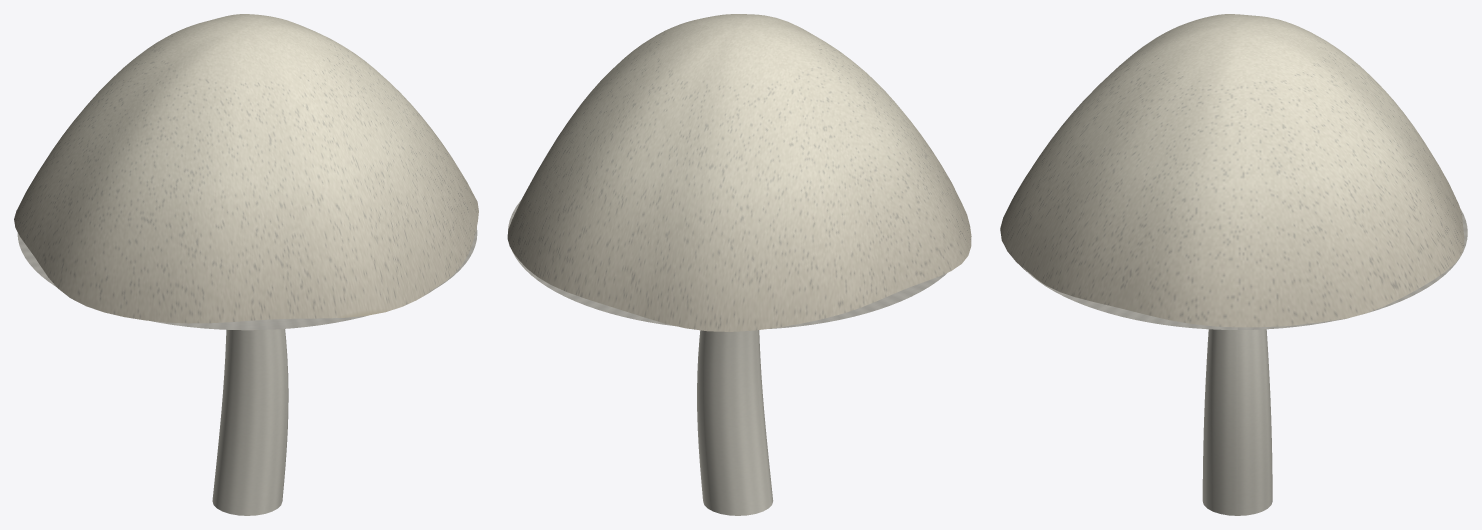
The model's file is pale_woodland_mushroom.glb.
The picture shows the model from 3 angles, left to right: view 1: azimuth 30°, elevation 25°; view 2: azimuth 150°, elevation 25°; view 3: azimuth 270°, elevation 25°; orthographic projection.
Parts seen in each view (by area): view 1: Pale woodland mushroom; view 2: Pale woodland mushroom; view 3: Pale woodland mushroom.
Part boxes in pixels (<box>): Pale woodland mushroom: <box>14,14,478,515</box>; Pale woodland mushroom: <box>507,14,971,515</box>; Pale woodland mushroom: <box>1000,14,1467,515</box>.
Bounding box in the file's own units: 1.6 × 1.79 × 1.6.
Materials: 1 (1 with a texture image).
